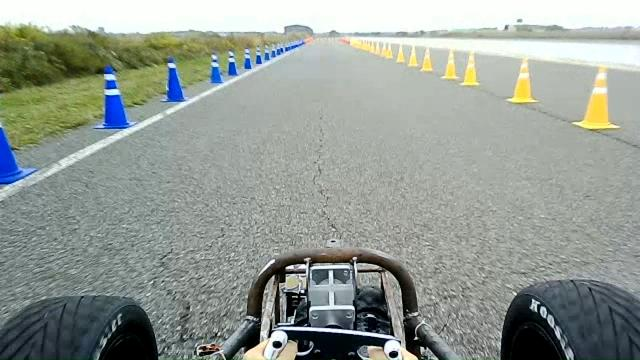blue cone: (93, 64, 137, 129), (160, 56, 187, 102), (209, 51, 224, 84), (227, 49, 238, 76), (243, 48, 252, 70), (255, 45, 262, 65), (263, 46, 271, 62), (270, 44, 276, 58)
yellow cone: (572, 64, 620, 130), (506, 56, 538, 103), (460, 49, 480, 86), (441, 47, 458, 80), (420, 46, 433, 72), (407, 43, 419, 67), (396, 43, 406, 63), (384, 42, 393, 58), (374, 41, 381, 56), (381, 43, 388, 56)
